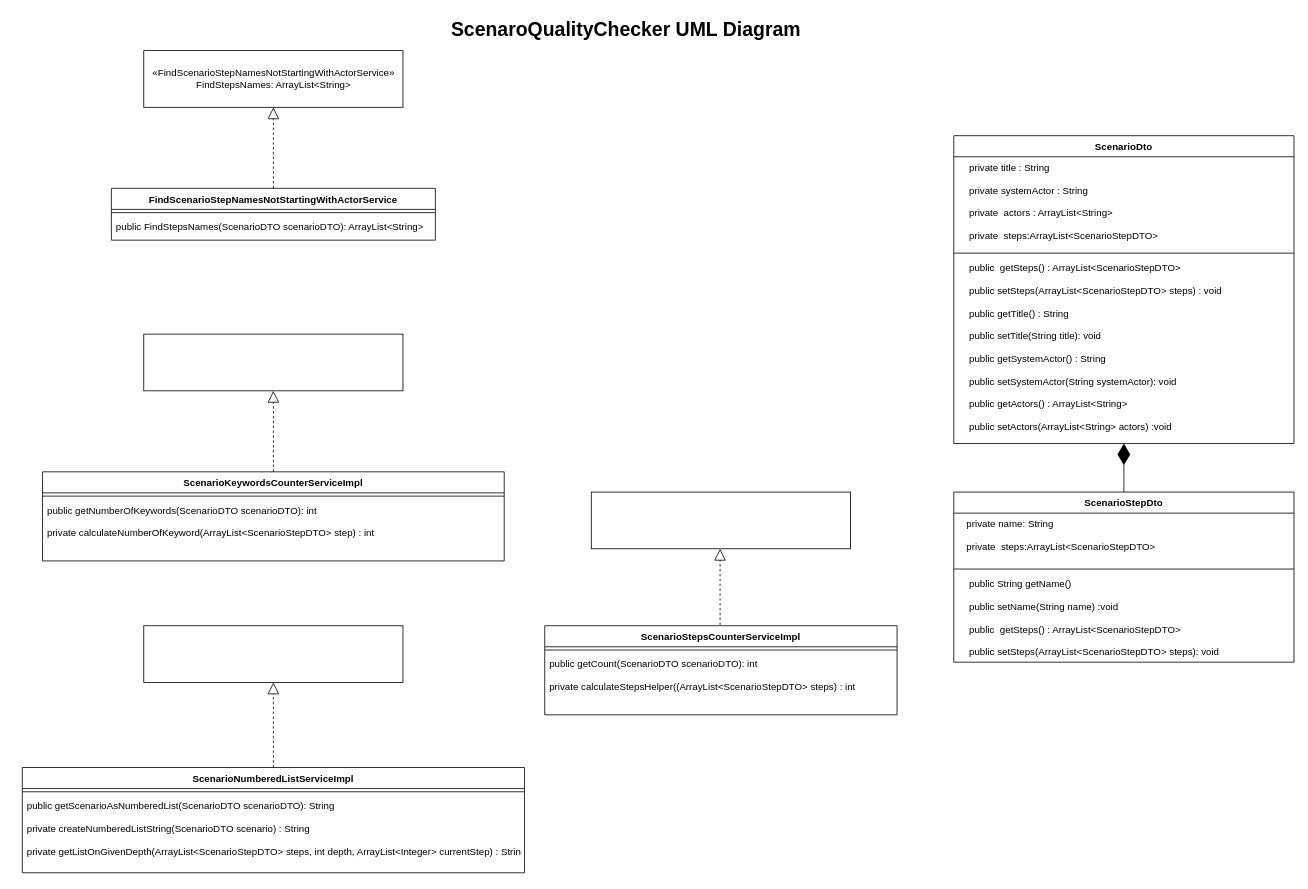
This 1308x889 diagram has some shape labels left out. Each missing label, with the centre of its shape:
«ScenarioKeywordsCounterService» getNumberOfKeywords: int: (x=273, y=362)
«ScenarioNumberedListService» getScenarioAsNumberedList: : String: (x=273, y=653)
«ScenarioStepsCounterService» getCount: : int: (x=720, y=520)
